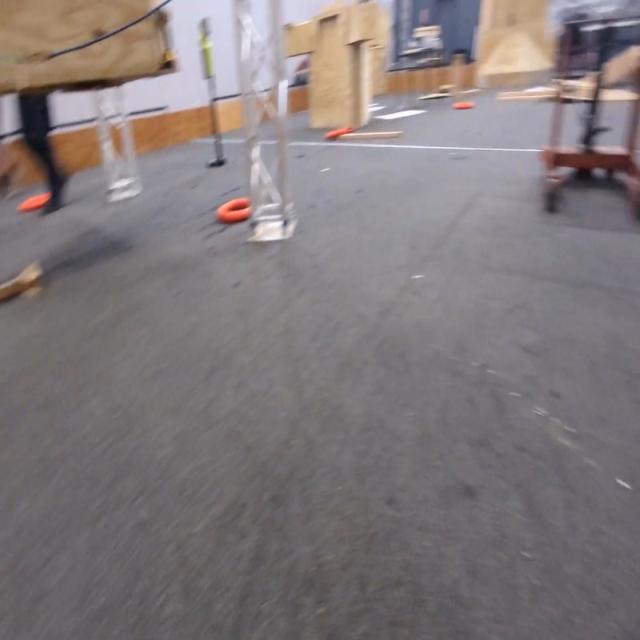note: (17, 188, 55, 216), (217, 196, 253, 225), (324, 125, 352, 143), (450, 100, 476, 112)
